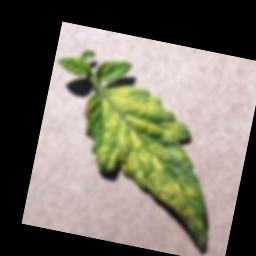Leaf_Mold: (75, 80, 236, 254), (82, 93, 96, 121)
